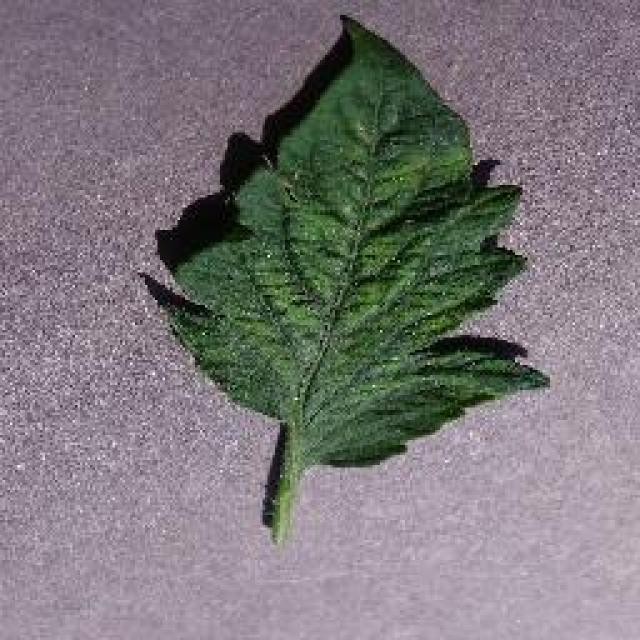Tomato mosaic virus leaf: (143, 15, 552, 472)
